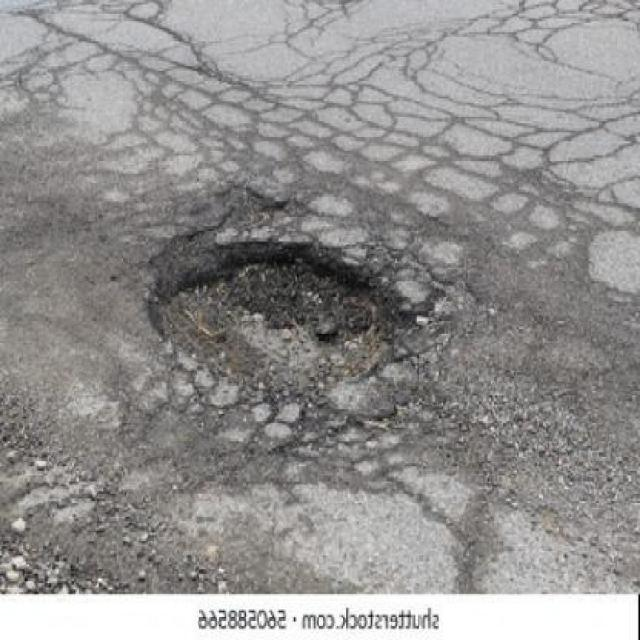pothole: (138, 224, 423, 407)
